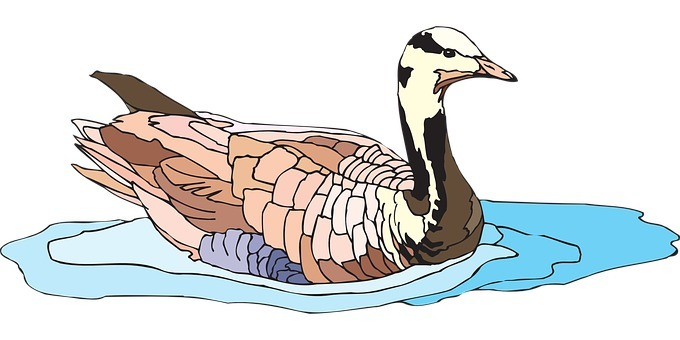bird: (57, 13, 520, 294)
